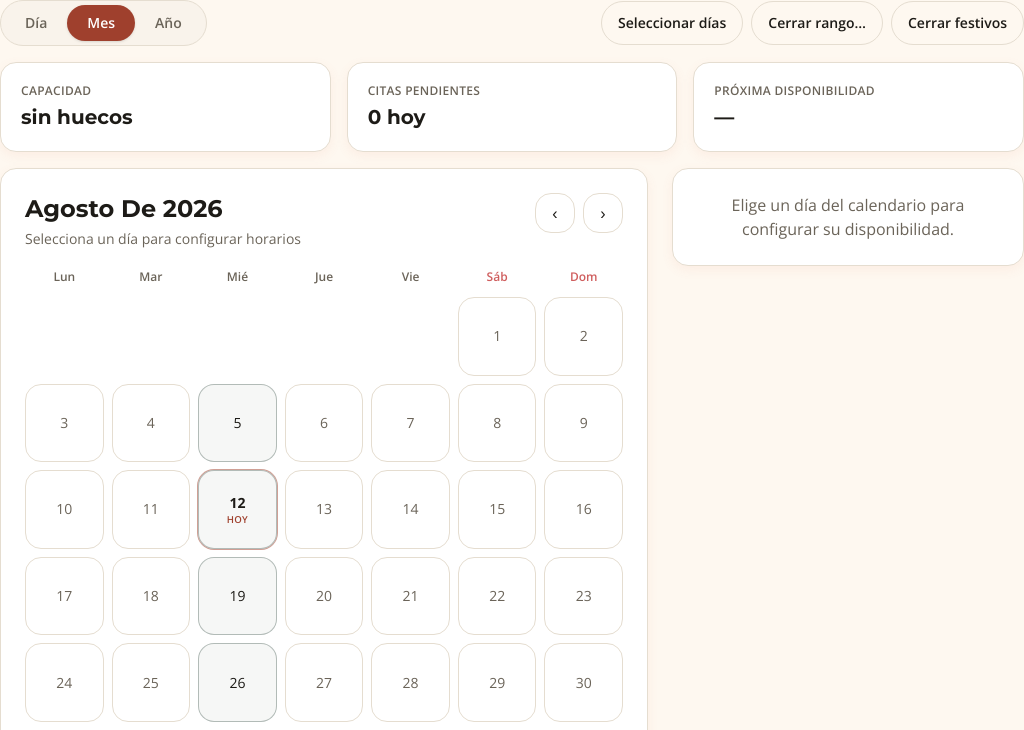
AgendaCliente › si el guardado falla muestra el feedback de error y no refresca
Click the cell "15". click: (497, 510)
box: [458,470,536,549]
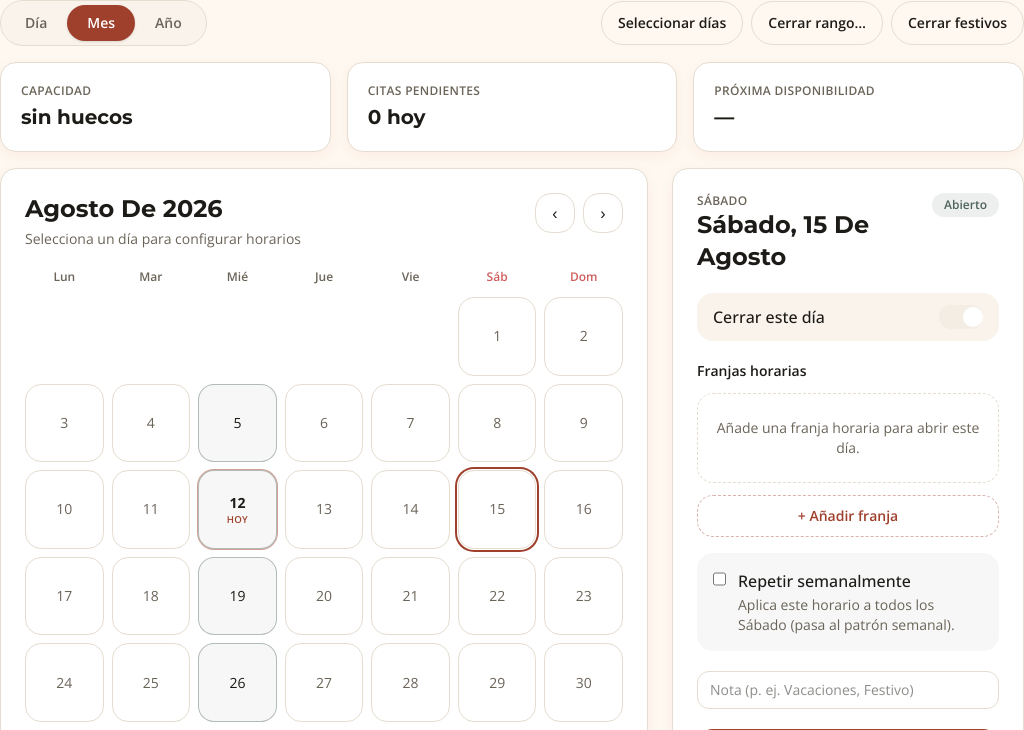
Click the switch named "cerrar este día". click: (961, 317)
box: [939,305,983,329]
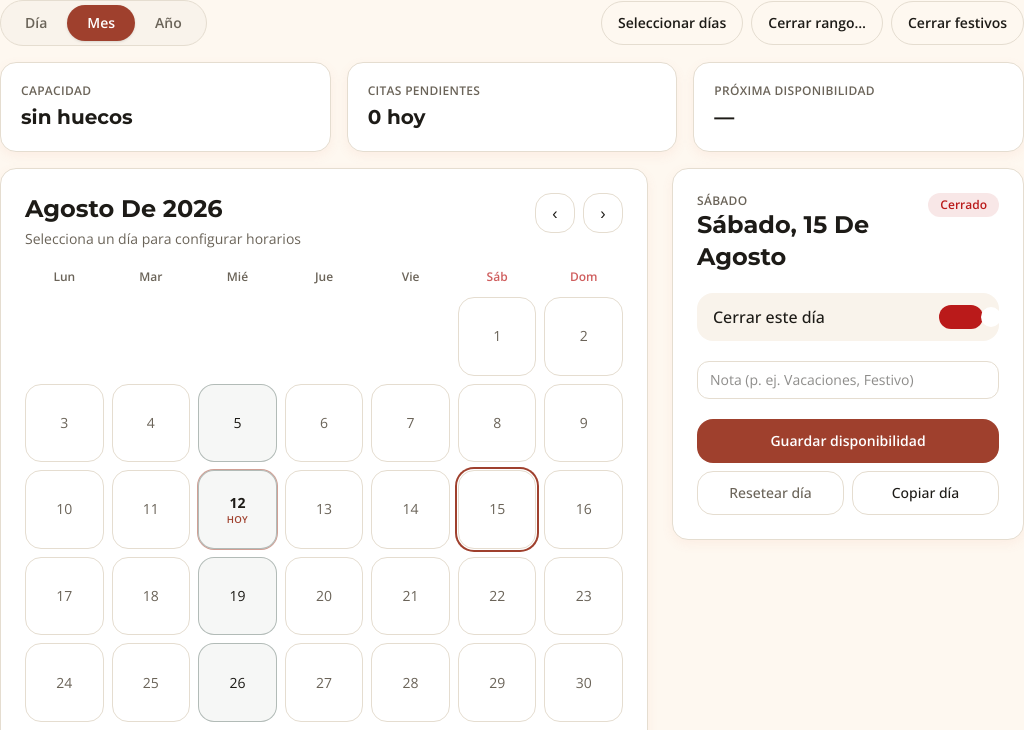
Click the button "Guardar disponibilidad". click: (848, 441)
box: [697,419,999,463]
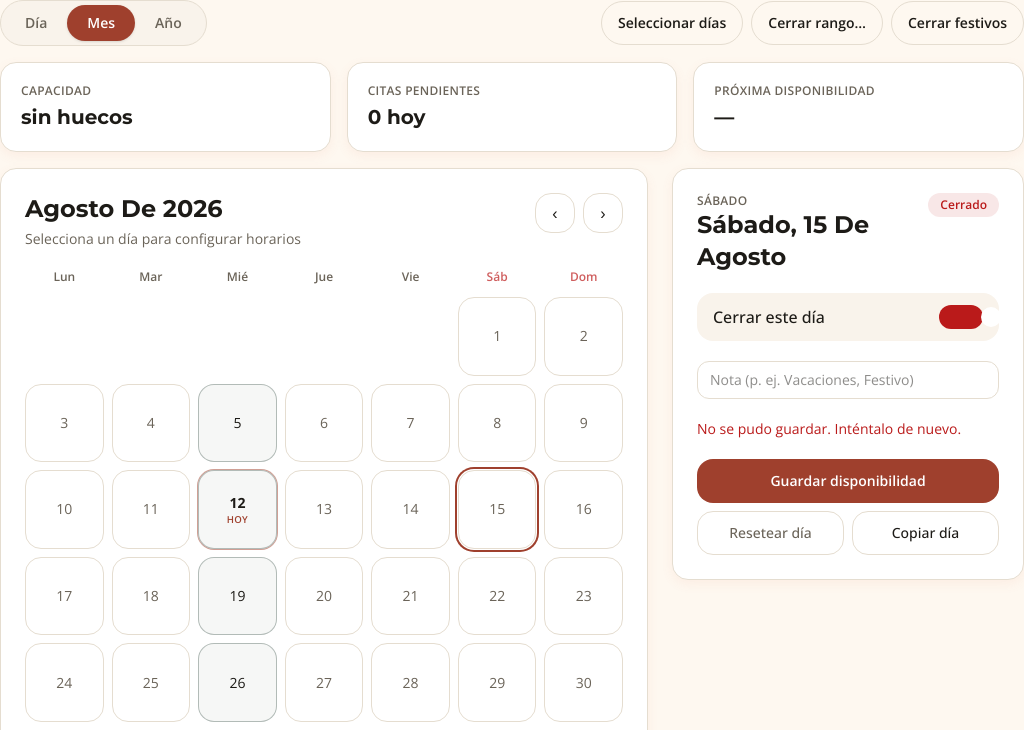
expect the text "No se pudo guardar. Inténtalo de nuevo." is shown: met, box [697,419,999,439]
